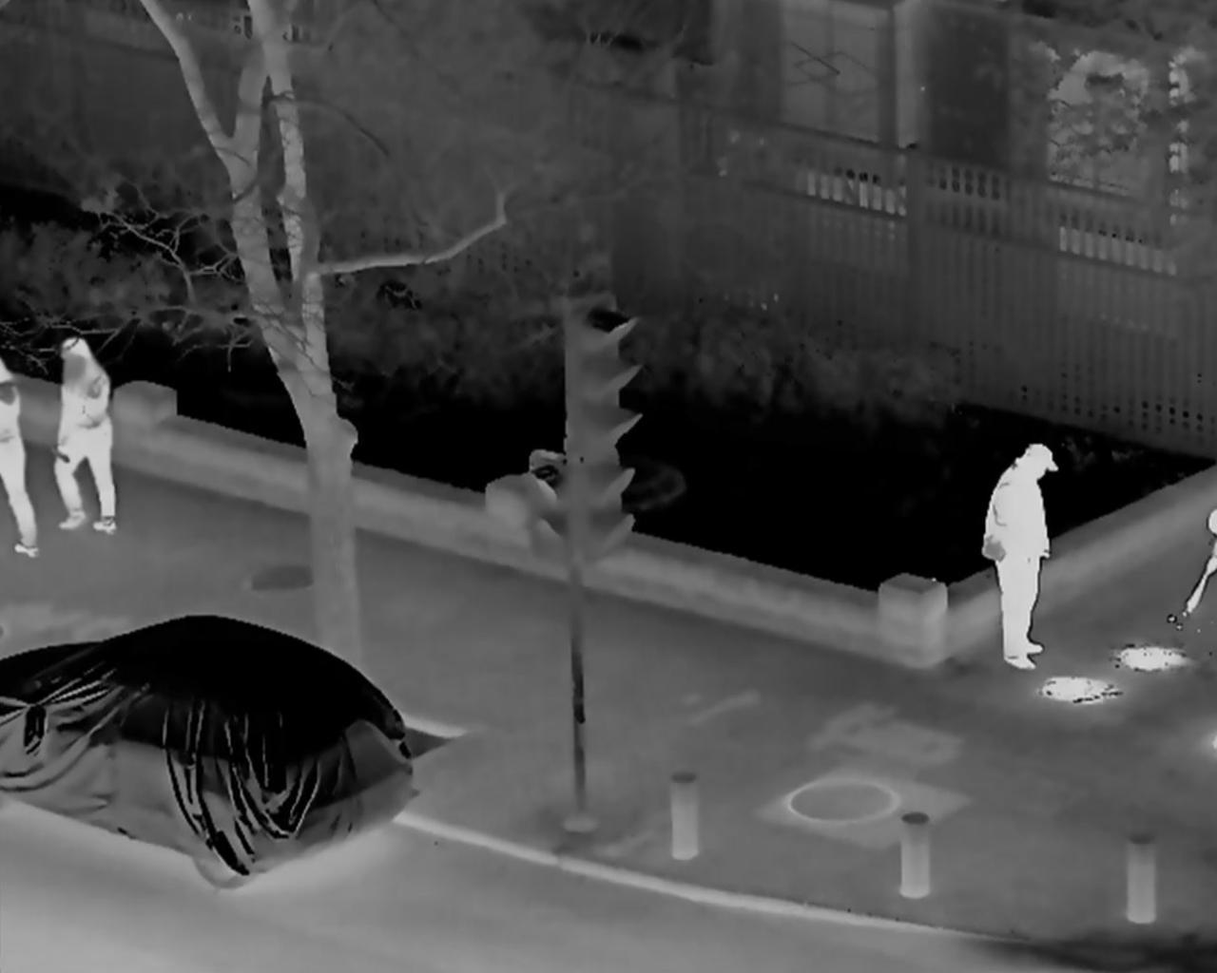person: (981, 442, 1059, 670), (45, 337, 121, 538)
